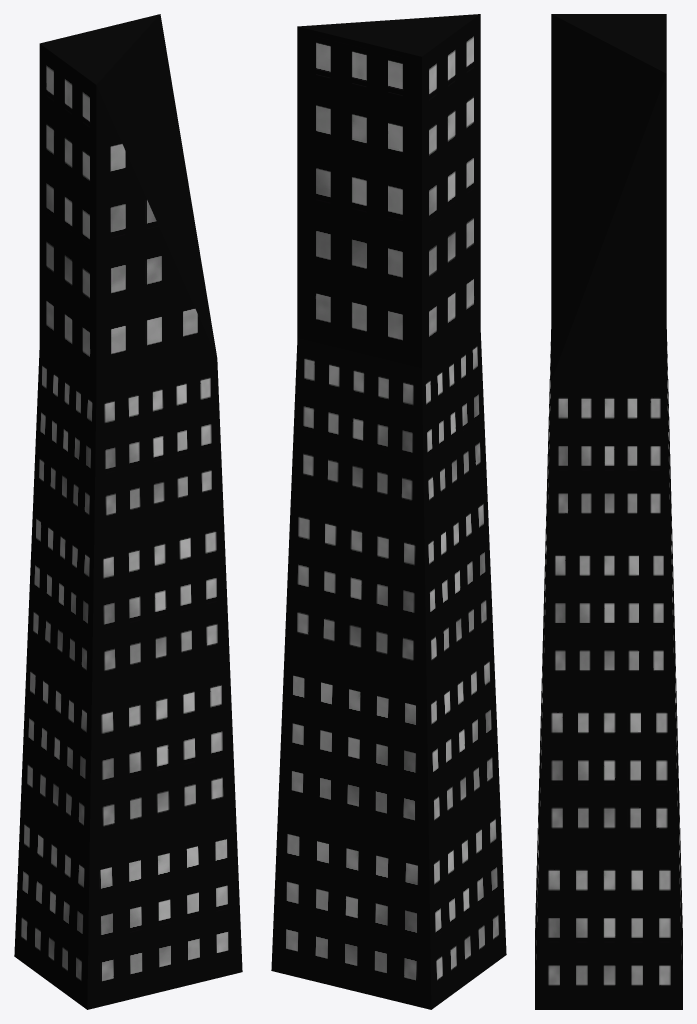
Rendered from house04.dae.
3 renders of one model, left to right at view 1: azimuth 30°, elevation 25°; view 2: azimuth 150°, elevation 25°; view 3: azimuth 270°, elevation 25°, orthographic. The views are drawn at different scales.
Parts seen in each view (by area): view 1: pCube3; view 2: pCube3; view 3: pCube3.
Part boxes in pixels (x1,y1,x2,y2): pCube3: (14,14,242,1009); pCube3: (271,14,506,1009); pCube3: (535,14,682,1009).
Size of the model in its own units: 15.57 by 87.68 by 12.67.
Materials: 1 (1 with a texture image).
